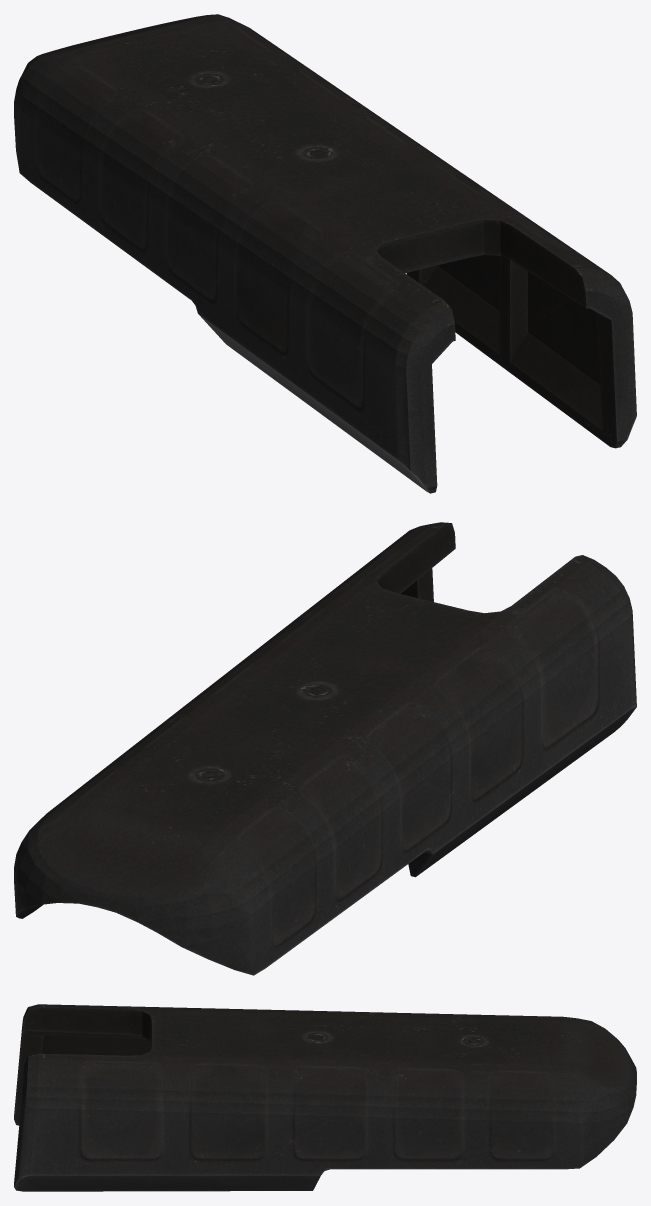
The picture shows the model from 3 angles, top to bottom: view 1: azimuth 30°, elevation 25°; view 2: azimuth 150°, elevation 25°; view 3: azimuth 270°, elevation 25°; orthographic projection. The views are drawn at different scales.
Visible parts, largest first — view 1: TW_5df36948bb49d91fb446d5ad_PZ_Import; view 2: TW_5df36948bb49d91fb446d5ad_PZ_Import; view 3: TW_5df36948bb49d91fb446d5ad_PZ_Import.
Part boxes in pixels (left/top/right/bottom): TW_5df36948bb49d91fb446d5ad_PZ_Import: left=14, top=14, right=636, bottom=493; TW_5df36948bb49d91fb446d5ad_PZ_Import: left=14, top=522, right=636, bottom=975; TW_5df36948bb49d91fb446d5ad_PZ_Import: left=14, top=1004, right=636, bottom=1191.
Size of the model in its own units: 0.0303 by 0.0961 by 0.0218.
Materials: 1 (1 with a texture image).
